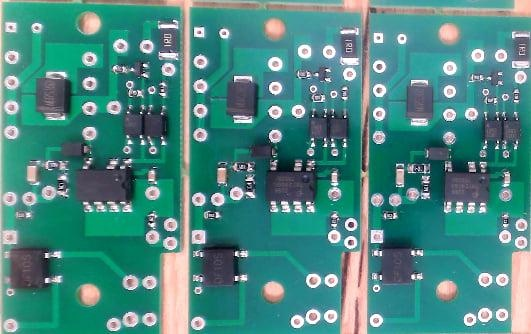chip-capacitor: (26, 159, 41, 186), (216, 161, 229, 188), (394, 162, 405, 188), (146, 165, 159, 185), (501, 169, 512, 187), (329, 169, 339, 186)
chip-resistor: (156, 19, 180, 61), (339, 26, 360, 66), (511, 30, 531, 69), (56, 173, 70, 199), (230, 160, 257, 173), (42, 159, 71, 171), (407, 162, 431, 175), (244, 174, 256, 199), (420, 175, 431, 200), (203, 209, 222, 221), (147, 210, 158, 230), (158, 80, 168, 99), (14, 210, 33, 220), (295, 69, 312, 80), (111, 64, 129, 74), (127, 88, 145, 98), (309, 93, 327, 103), (330, 210, 339, 229), (340, 84, 350, 101), (468, 73, 485, 83), (382, 210, 399, 220), (501, 211, 510, 229), (511, 88, 521, 104), (482, 96, 499, 105)
diode: (34, 70, 73, 121), (225, 74, 258, 125), (405, 78, 435, 129), (59, 140, 93, 157), (423, 145, 453, 162), (248, 143, 278, 159)
ic: (74, 156, 137, 214), (265, 158, 319, 214), (442, 160, 492, 215), (3, 247, 64, 289), (191, 246, 249, 287), (370, 246, 426, 286), (145, 104, 168, 146), (123, 104, 145, 146), (308, 107, 329, 148), (502, 110, 523, 150), (329, 107, 349, 148), (482, 110, 502, 150)
transistor: (129, 61, 151, 80), (313, 66, 333, 84), (486, 69, 505, 87)
